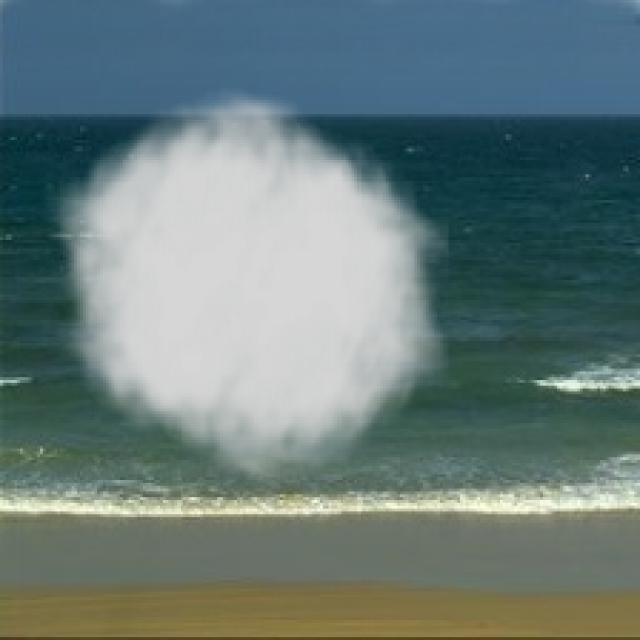smoke: (40, 77, 449, 494)
